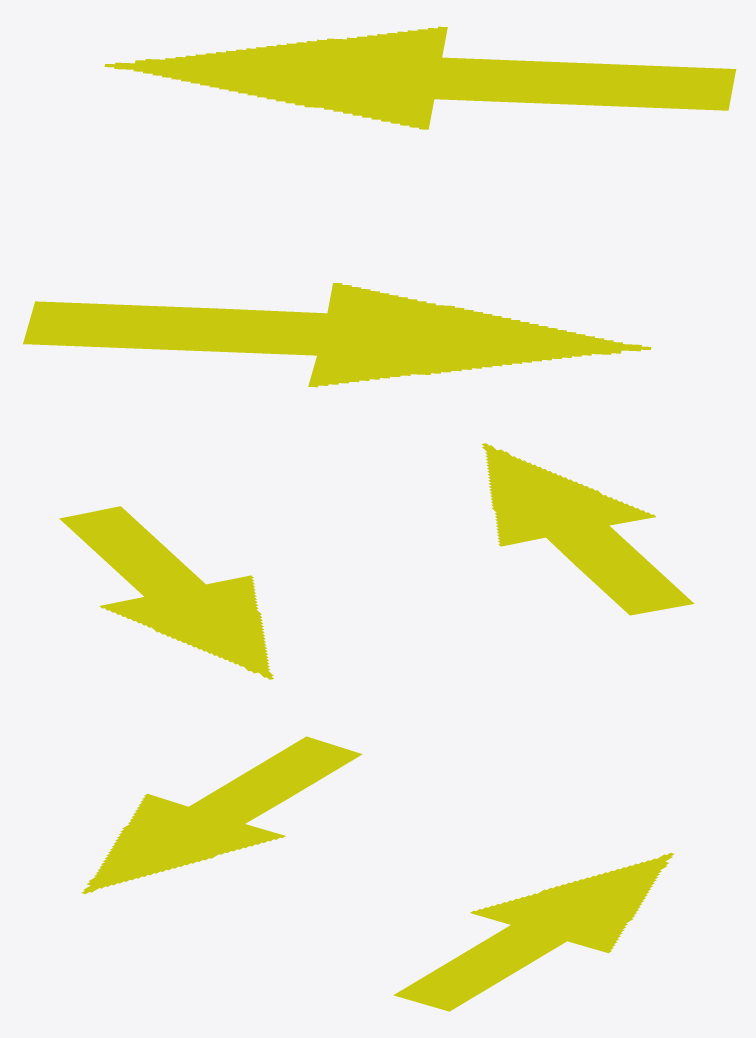
Rendered from Dam_Alpha_13.glb.
The picture shows the model from 3 angles, top to bottom: view 1: azimuth 30°, elevation 25°; view 2: azimuth 150°, elevation 25°; view 3: azimuth 270°, elevation 25°; orthographic projection. The views are drawn at different scales.
Visible parts, largest first — view 1: Dam_Alpha_13; view 2: Dam_Alpha_13; view 3: Dam_Alpha_13.
Part boxes in pixels (bbox=[...]): Dam_Alpha_13: bbox=[23, 26, 736, 387]; Dam_Alpha_13: bbox=[59, 443, 694, 679]; Dam_Alpha_13: bbox=[81, 736, 674, 1011].
Bounding box in the file's own units: 10.25 × 2.22e-15 × 10.5.
Materials: 1 (1 with a texture image).
